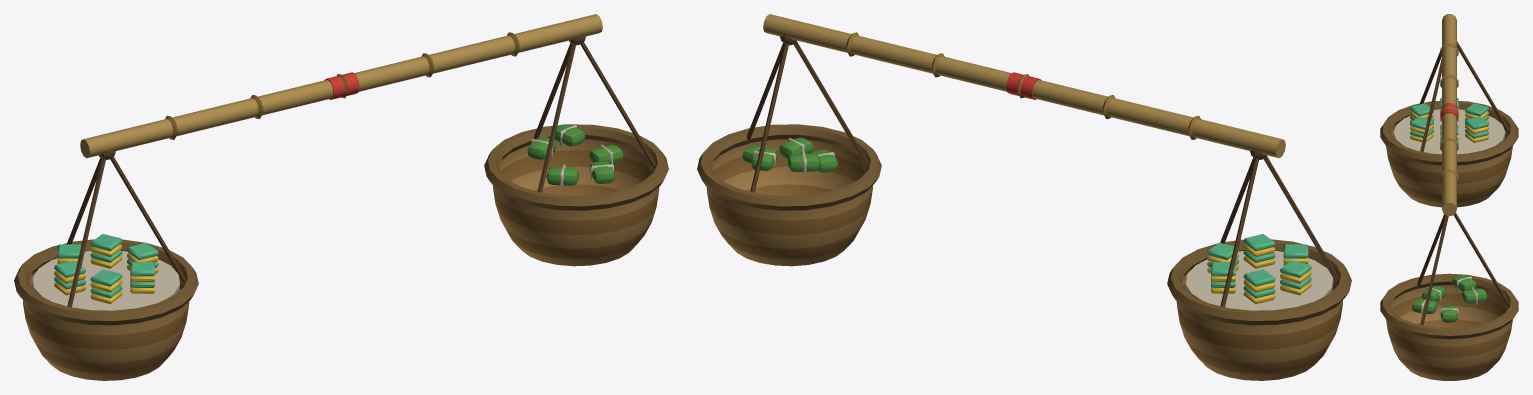
The model's file is pp-pole-banhda.glb.
3 views of the same model, side by side, from view 1: azimuth 30°, elevation 25°; view 2: azimuth 150°, elevation 25°; view 3: azimuth 270°, elevation 25° (orthographic). The views are drawn at different scales.
Size of the model in its own units: 2.95 by 1 by 0.7424.
